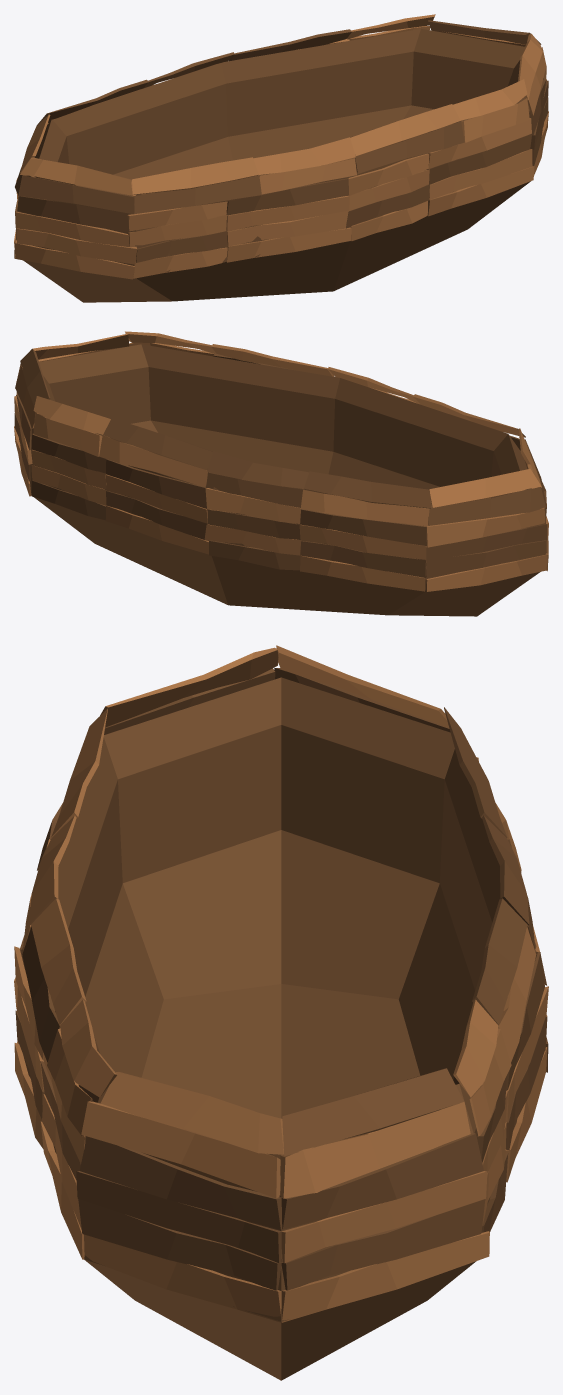
The model's file is Boot.fbx.
3 views of the same model, one above another, from view 1: azimuth 30°, elevation 25°; view 2: azimuth 150°, elevation 25°; view 3: azimuth 270°, elevation 25° (orthographic). The views are drawn at different scales.
Visible parts, largest first — view 1: Boot; view 2: Boot; view 3: Boot.
Boxes of the visible parts, x1,y1,x2,y2 form: Boot: (14,14,548,302); Boot: (14,331,548,616); Boot: (14,645,548,1380).
Bounding box in the file's own units: 6.64 × 2.15 × 2.98.
